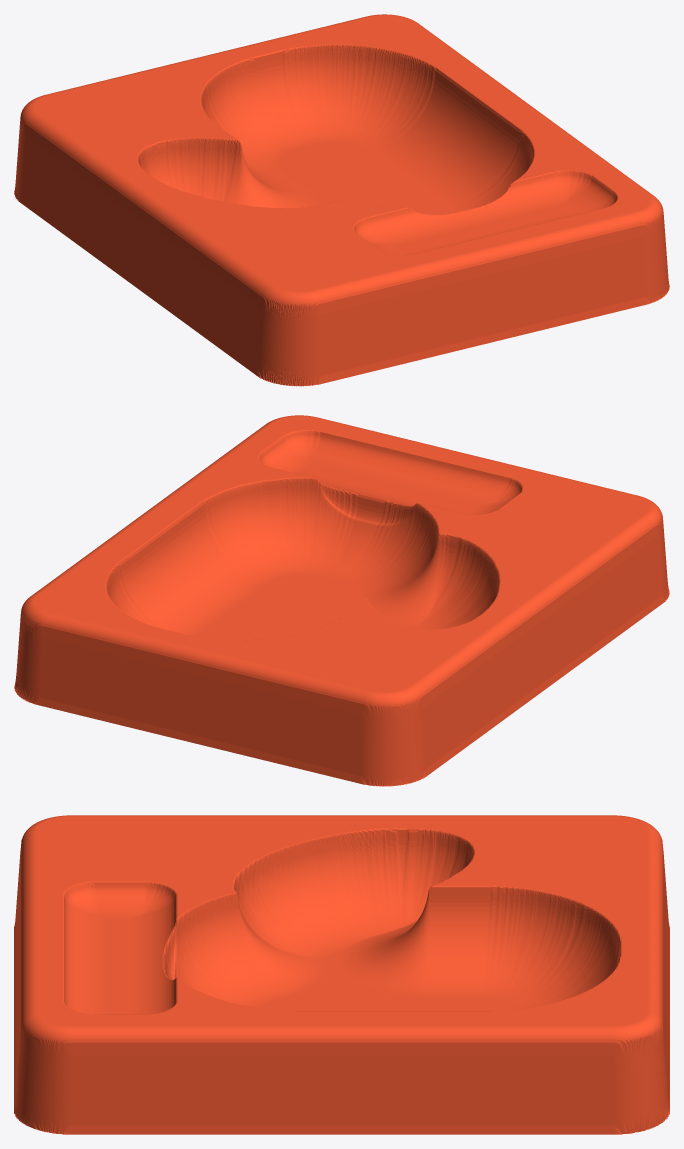
File: mold.glb
The picture shows the model from 3 angles, top to bottom: view 1: azimuth 30°, elevation 25°; view 2: azimuth 150°, elevation 25°; view 3: azimuth 270°, elevation 25°; orthographic projection. The views are drawn at different scales.
Parts seen in each view (by area): view 1: geometry_0; view 2: geometry_0; view 3: geometry_0.
Boxes of the visible parts, box(x1,y1,x2,y2) form: geometry_0: box(14, 14, 669, 386); geometry_0: box(14, 415, 669, 786); geometry_0: box(14, 815, 669, 1134).
Bounding box in the file's own units: 0.0864 × 0.0175 × 0.105.
